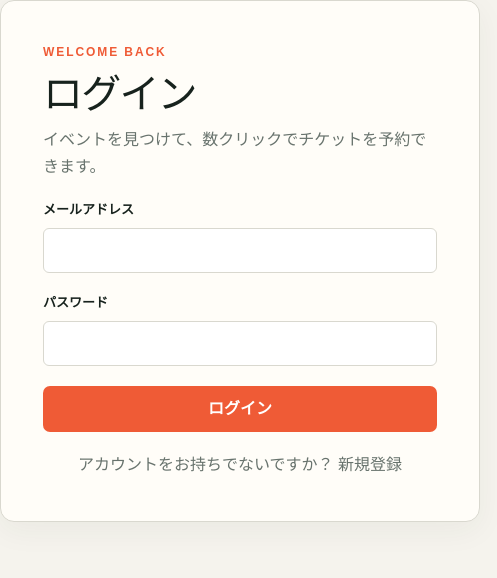
Test: AuthForm › APIエラーを表示する
The image size is (497, 578).
Type "user@example.com" into the field labelled "メールアドレス" at (240, 250), box [43,228,437,273]
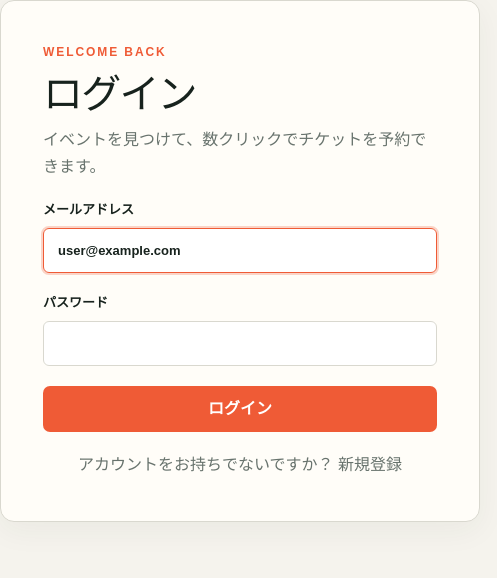
Type "password123" into the password field labelled "パスワード" at (240, 343), box [43,321,437,366]
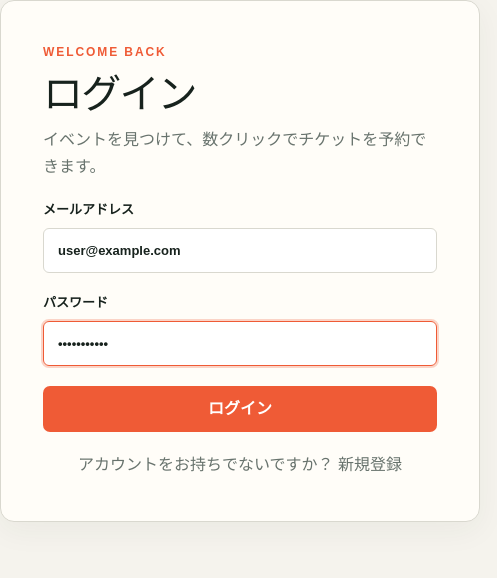
Click the button "ログイン" at (240, 409), box [43,386,437,432]
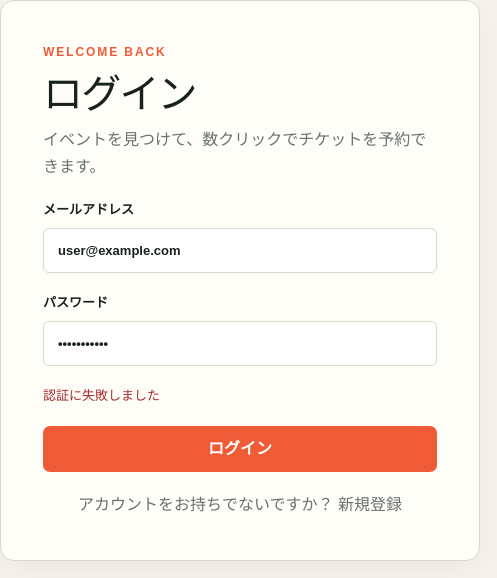
Expected: the message reads "認証に失敗しました", [43,388,160,403]
